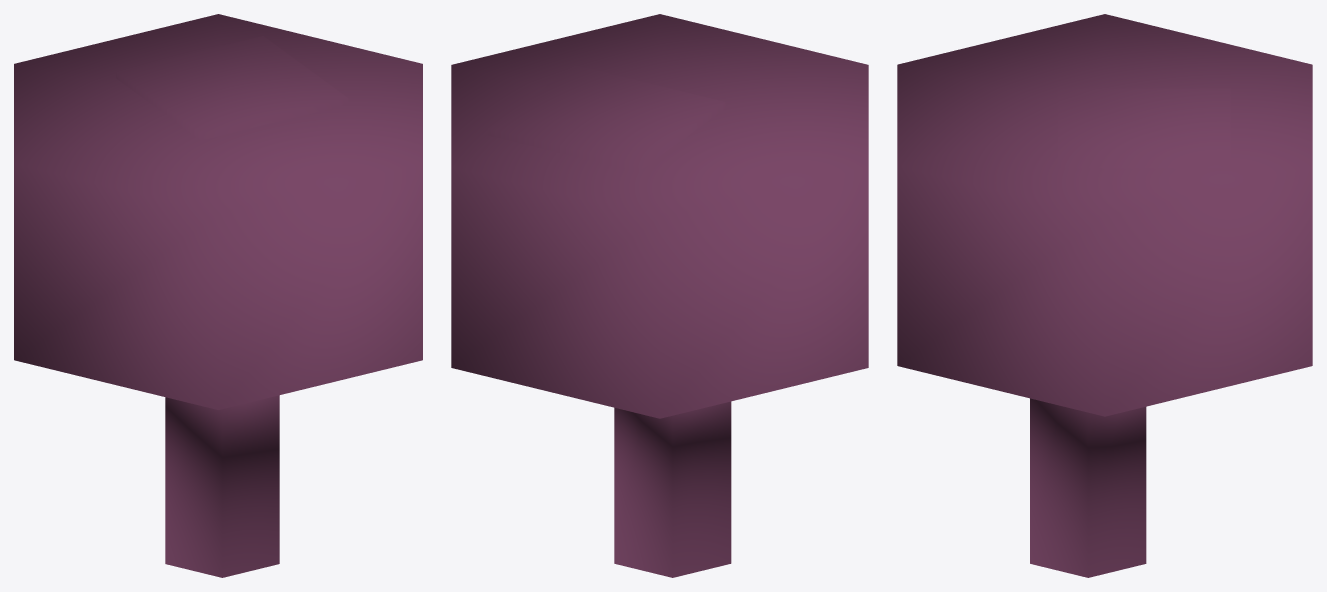
The model's file is ps2_jrpg_highland_cedar_tree.obj.
3 renders of one model, left to right at view 1: azimuth 30°, elevation 25°; view 2: azimuth 150°, elevation 25°; view 3: azimuth 270°, elevation 25°, orthographic. The views are drawn at different scales.
Bounding box in the file's own units: 2 × 2.04 × 1.73.
